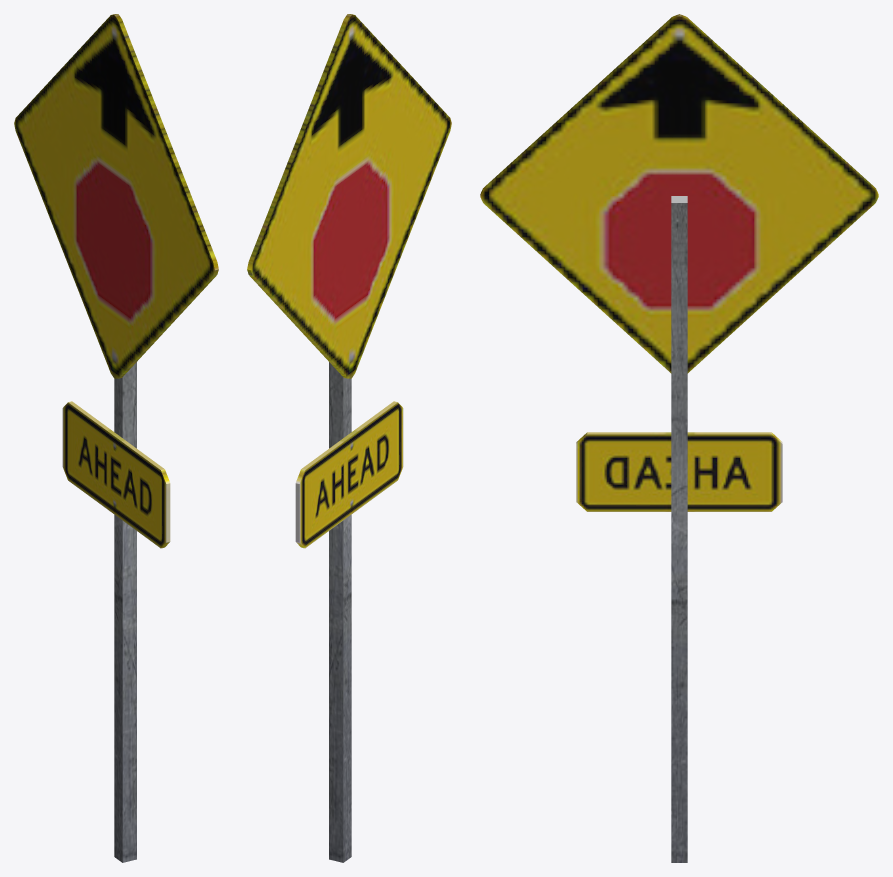
File: sign-ahead.fbx
The picture shows the model from 3 angles, left to right: view 1: azimuth 30°, elevation 25°; view 2: azimuth 150°, elevation 25°; view 3: azimuth 270°, elevation 25°; orthographic projection.
Visible parts, largest first — view 1: Plane.058; view 2: Plane.058; view 3: Plane.058.
Part boxes in pixels (left/top/right/bottom): Plane.058: left=14, top=14, right=218, bottom=862; Plane.058: left=247, top=14, right=451, bottom=862; Plane.058: left=480, top=14, right=878, bottom=862.
Bounding box in the file's own units: 8.77 × 384 × 165.
